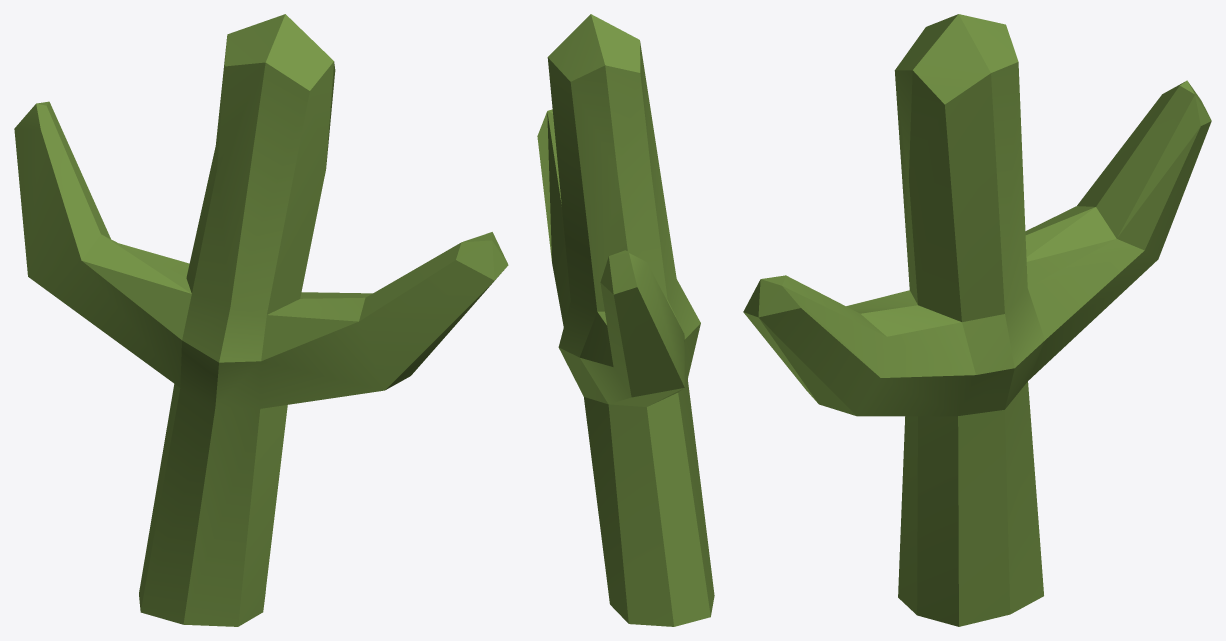
The model's file is cactus_1.fbx.
The picture shows the model from 3 angles, left to right: view 1: azimuth 30°, elevation 25°; view 2: azimuth 150°, elevation 25°; view 3: azimuth 270°, elevation 25°; orthographic projection. The views are drawn at different scales.
Parts seen in each view (by area): view 1: EA04_Env_Plants_Cactus_01a; view 2: EA04_Env_Plants_Cactus_01a; view 3: EA04_Env_Plants_Cactus_01a.
Boxes of the visible parts, x1,y1,x2,y2 form: EA04_Env_Plants_Cactus_01a: (14,14,508,626); EA04_Env_Plants_Cactus_01a: (537,14,714,626); EA04_Env_Plants_Cactus_01a: (743,14,1211,626).
Size of the model in its own units: 104 by 186 by 127.
